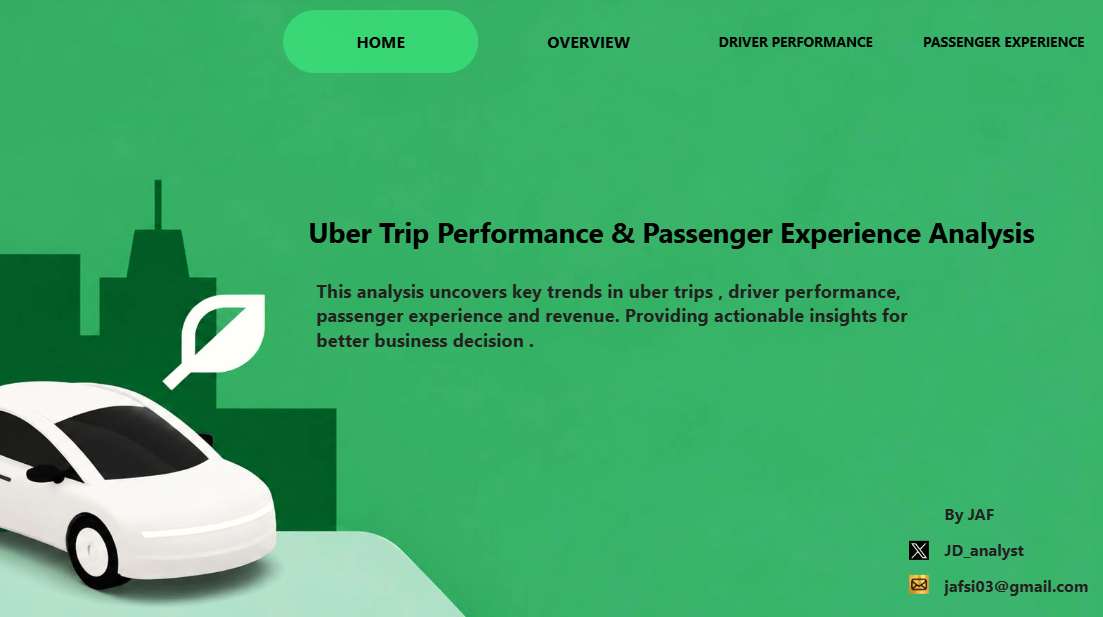

The page's visual inventory and layout, read from the dashboard file:
{"tool":"powerbi","page":{"name":"HOME","canvas":[1280,720],"ordinal":0},"visuals":[{"type":"textbox","box":[352.1,245.5,866.2,63],"z":0},{"type":"actionButton","box":[327.7,16.7,226.2,73.3],"z":1000},{"type":"actionButton","box":[568,16.7,226.2,73.3],"z":2000},{"type":"actionButton","box":[808.4,16.7,226.2,73.3],"z":3000},{"type":"actionButton","box":[1048.7,16.7,226.2,73.3],"z":4000},{"type":"textbox","box":[361.1,321.3,703,118.2],"z":5000},{"type":"textbox","box":[1088.5,580.9,186.3,128.5],"z":6000},{"type":"image","box":[1052.5,629.7,23.1,24.4],"z":7000},{"type":"image","box":[1052.5,669.6,23.1,24.4],"z":8000}]}

Visuals, with their boxes in screenshot pixels (x1, y1, x2, y2), scaled from the page's 1280x720 canvas onto the 1103x617 screenshot:
textbox: box(303, 210, 1050, 264)
actionButton: box(282, 14, 477, 77)
actionButton: box(489, 14, 684, 77)
actionButton: box(697, 14, 892, 77)
actionButton: box(904, 14, 1099, 77)
textbox: box(311, 275, 917, 377)
textbox: box(938, 498, 1099, 608)
image: box(907, 540, 927, 561)
image: box(907, 574, 927, 595)
